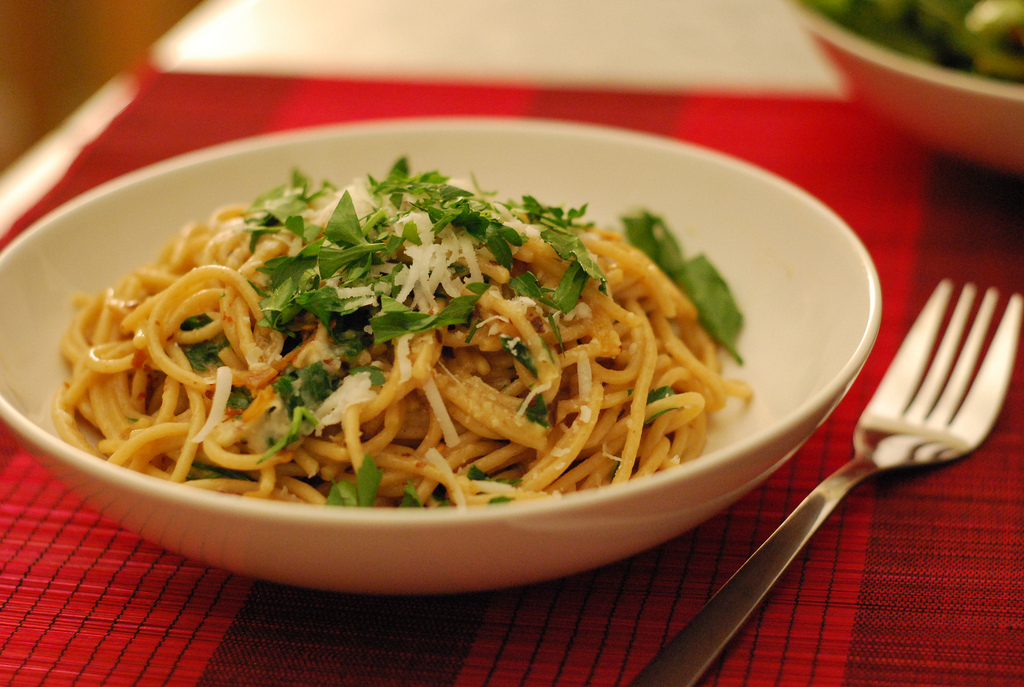plain spaghetti: (82, 190, 724, 493)
